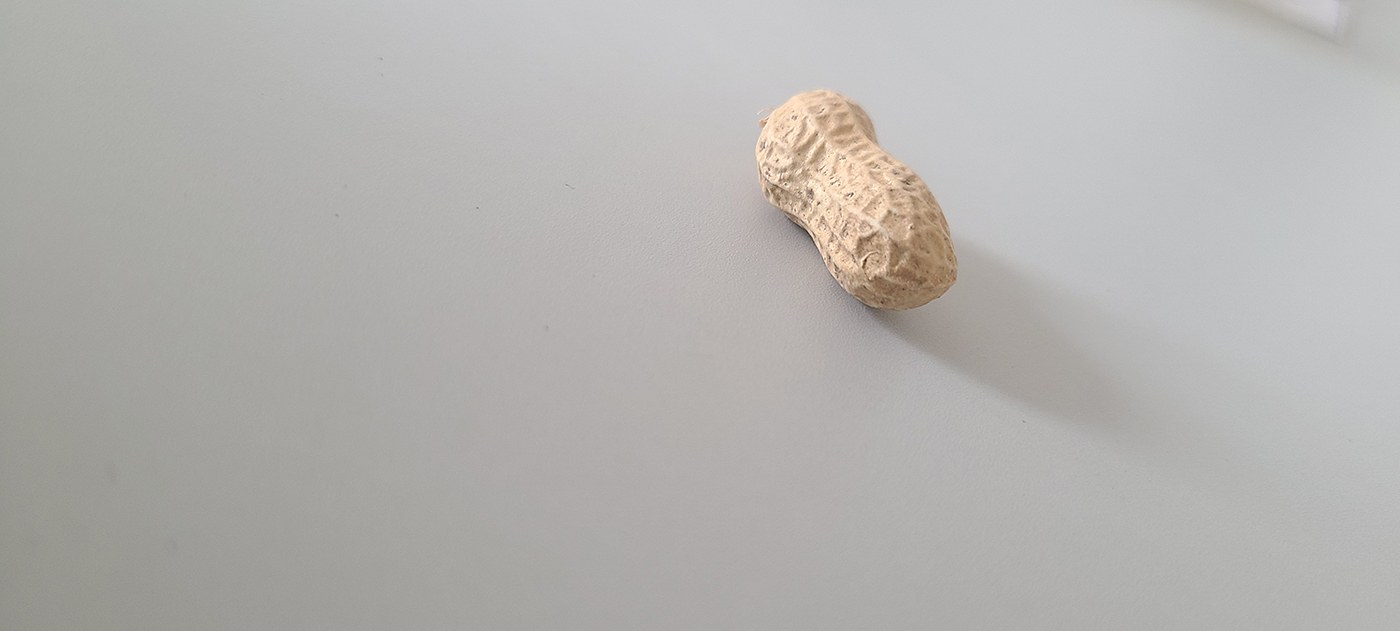h: (753, 86, 960, 314)
